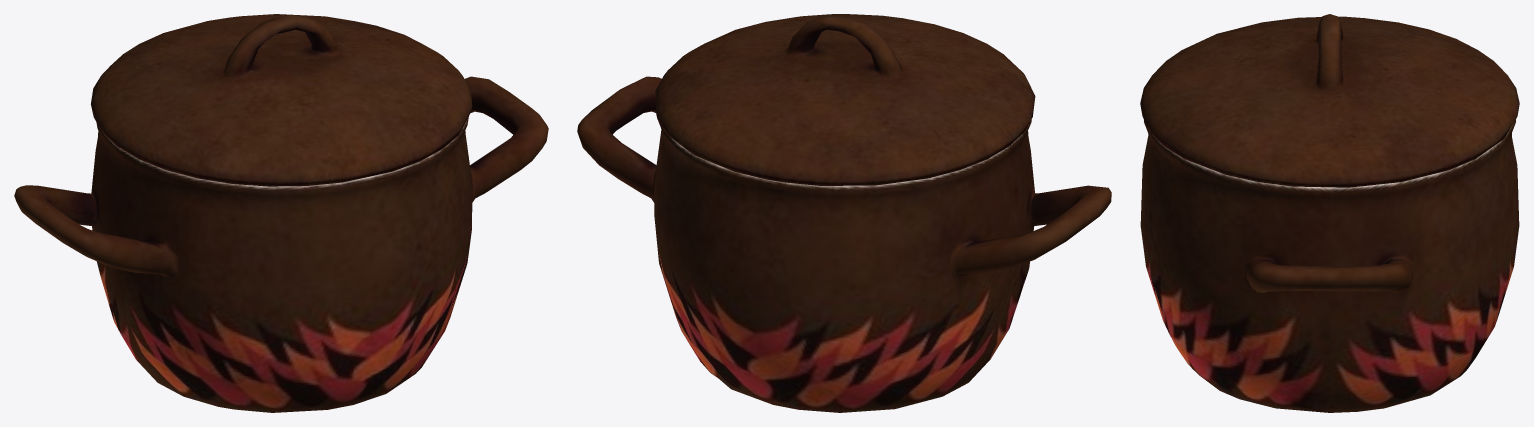
Rendered from pot_enamel_01.glb.
3 views of the same model, side by side, from view 1: azimuth 30°, elevation 25°; view 2: azimuth 150°, elevation 25°; view 3: azimuth 270°, elevation 25° (orthographic).
Visible parts, largest first — view 1: pot_enamel_01; view 2: pot_enamel_01; view 3: pot_enamel_01.
Part boxes in pixels (x1,y1,x2,y2): pot_enamel_01: [14, 14, 548, 412]; pot_enamel_01: [577, 14, 1111, 412]; pot_enamel_01: [1140, 14, 1519, 412].
Bounding box in the file's own units: 0.2627 × 0.1778 × 0.1805.
Materials: 1 (1 with a texture image).
